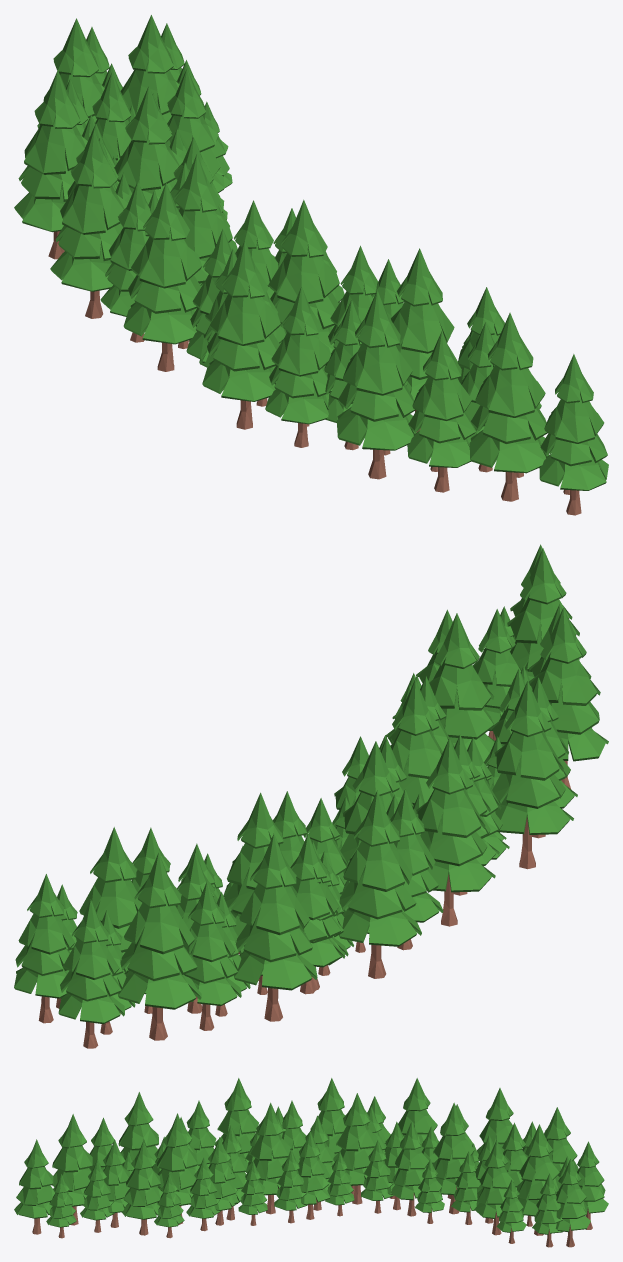
The model's file is Round_Group_Tree.glb.
The picture shows the model from 3 angles, top to bottom: view 1: azimuth 30°, elevation 25°; view 2: azimuth 150°, elevation 25°; view 3: azimuth 270°, elevation 25°; orthographic projection. The views are drawn at different scales.
Visible parts, largest first — view 1: fir_001.003; view 2: fir_001.003; view 3: fir_001.003.
Part boxes in pixels (x1,y1,x2,y2): fir_001.003: (14,15,608,515); fir_001.003: (14,544,608,1048); fir_001.003: (14,1078,608,1247).
Size of the model in its own units: 9.54 by 6.18 by 30.38.
1 material, 1 textured.
